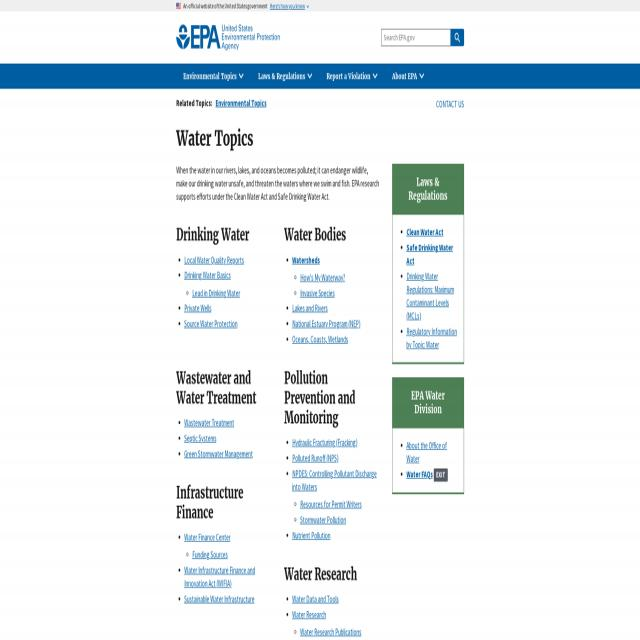button: (176, 24, 280, 50), (176, 63, 251, 89), (251, 63, 319, 89), (319, 63, 385, 89), (385, 63, 431, 89), (270, 2, 305, 10), (450, 29, 464, 46), (433, 469, 448, 482), (176, 3, 181, 9)
field: (381, 29, 451, 46)
